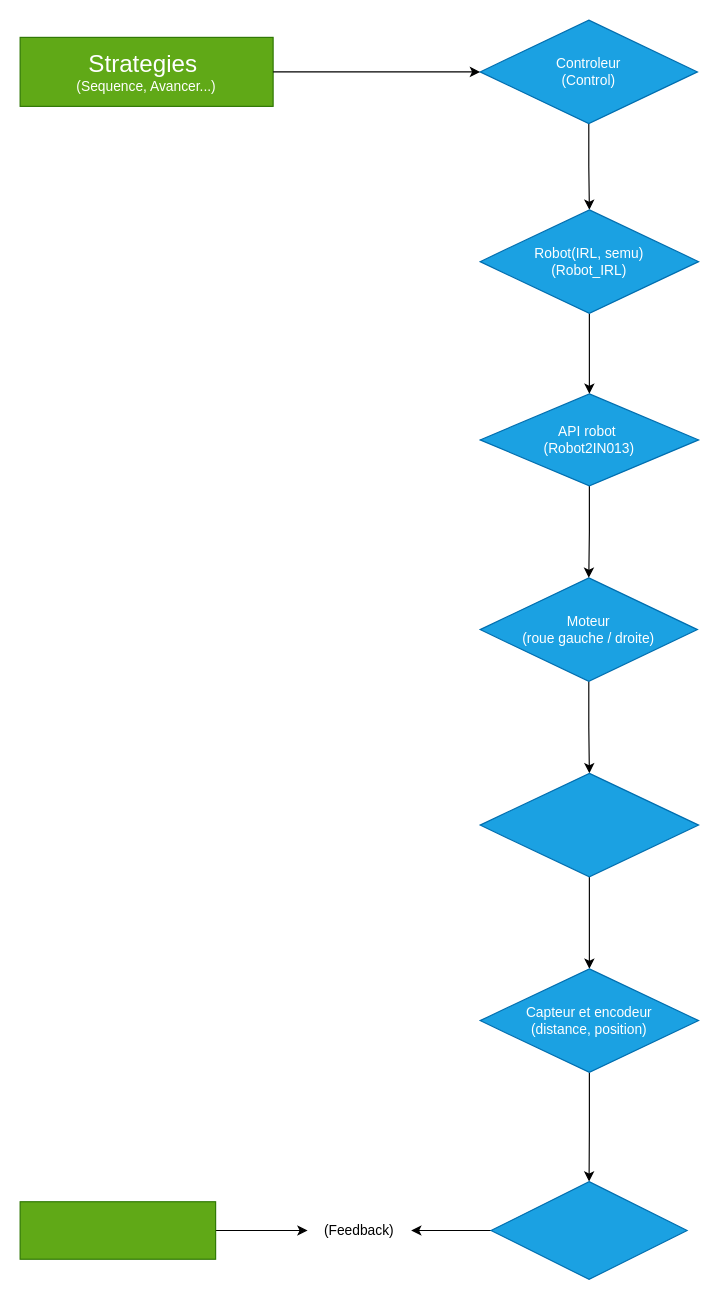
Image size: 719x1300. Some labels were removed from this diagram. The box of each missing label's shape, as (x1, y1, x2, y2) in pixels:
Arene (obstacles, collisions): (490, 1180, 687, 1279)
Robot (déplacement réel): (479, 772, 699, 877)
Strategies: (19, 1201, 216, 1259)
